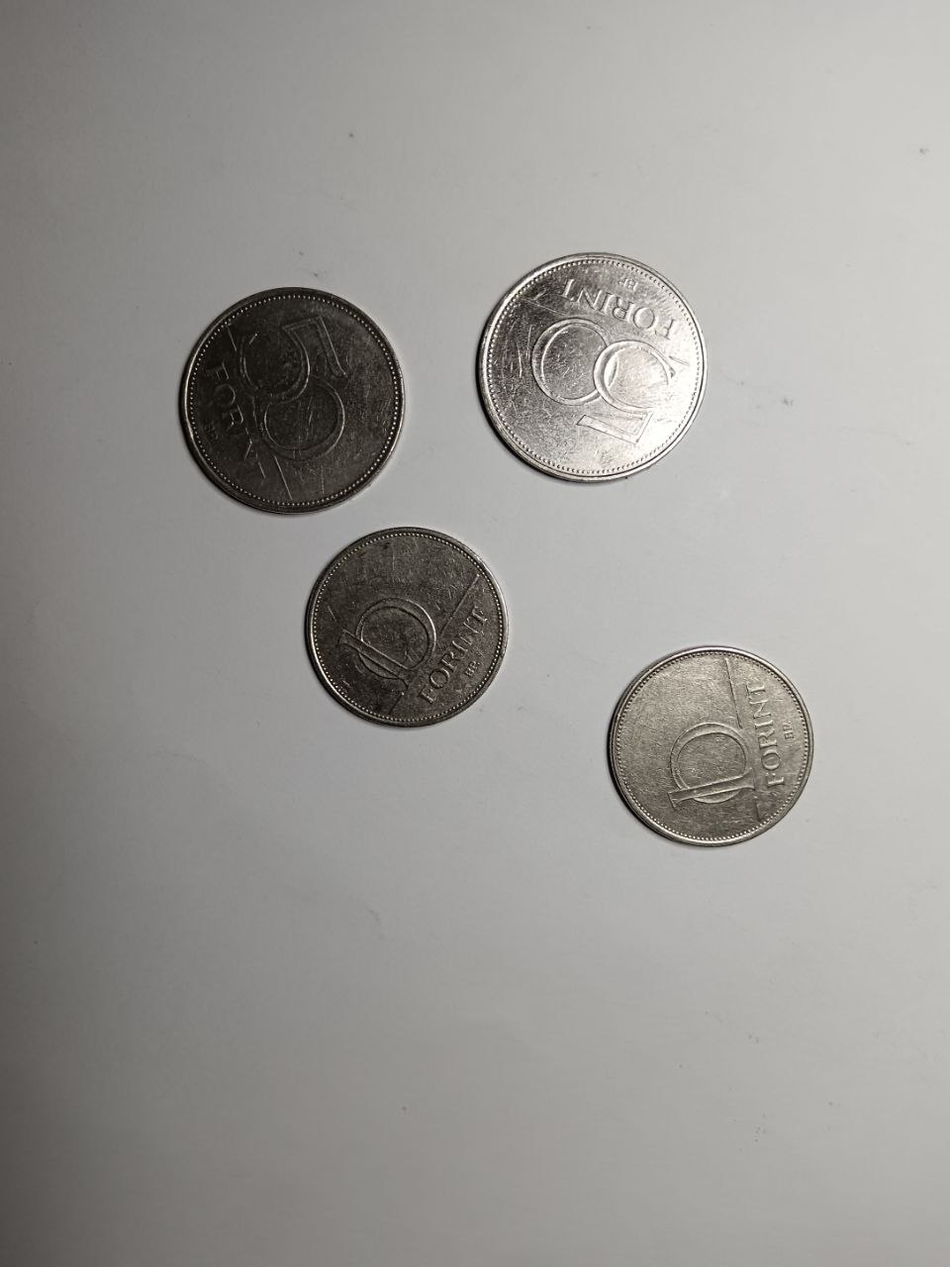10ft: (617, 649, 815, 851), (302, 528, 507, 721)
50ft: (175, 286, 404, 515), (480, 255, 703, 477)
